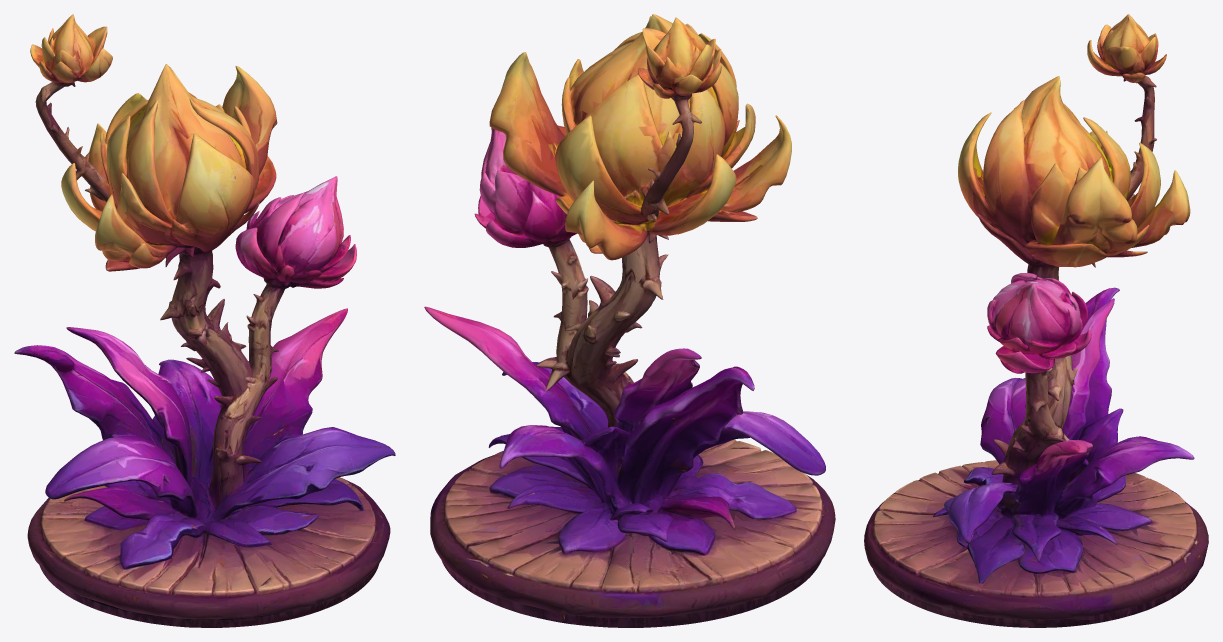
Rendered from Twin_Flame_Bloom.glb.
3 views of the same model, side by side, from view 1: azimuth 30°, elevation 25°; view 2: azimuth 150°, elevation 25°; view 3: azimuth 270°, elevation 25° (orthographic). The views are drawn at different scales.
Visible parts, largest first — view 1: Twin_Flame_Bloom; view 2: Twin_Flame_Bloom; view 3: Twin_Flame_Bloom.
Part boxes in pixels (x1=…): Twin_Flame_Bloom: x1=14, y1=14, x2=395, y2=627; Twin_Flame_Bloom: x1=424, y1=14, x2=835, y2=627; Twin_Flame_Bloom: x1=864, y1=14, x2=1208, y2=627.
Bounding box in the file's own units: 1.24 × 1.9 × 1.18.
Materials: 1 (1 with a texture image).
